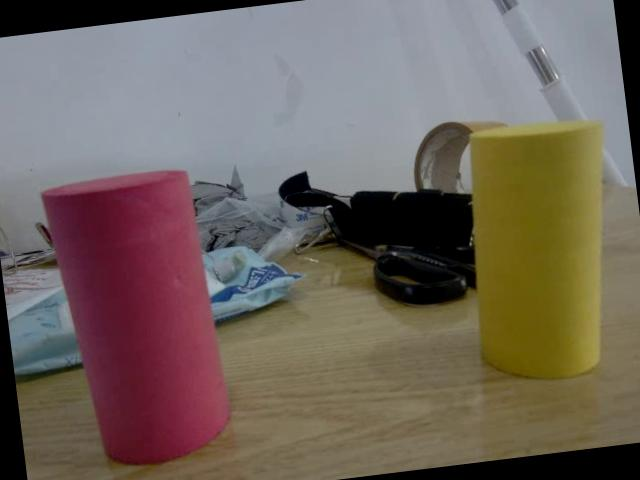red_cylinder: (38, 163, 243, 477)
yellow_cylinder: (452, 111, 634, 389)
